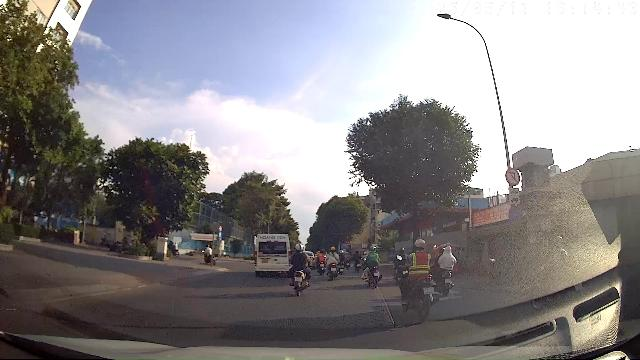123a-cam-re-trai: (506, 168, 520, 186)
